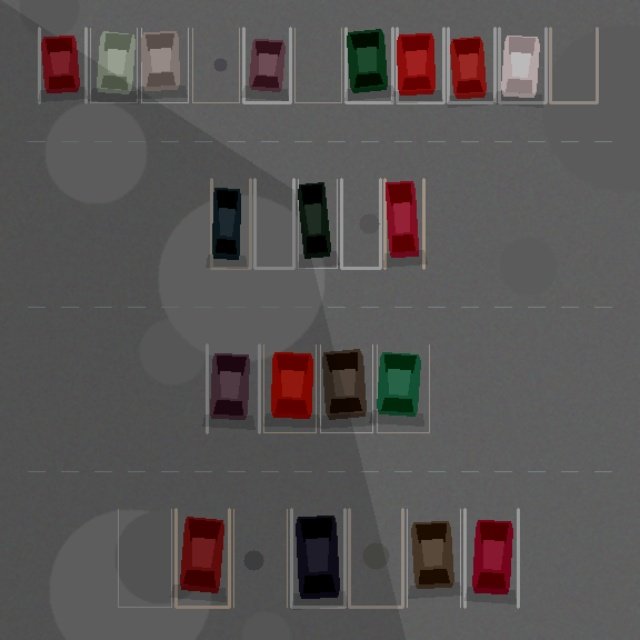space-empty: (233, 509, 287, 607), (118, 509, 171, 607), (349, 509, 402, 607), (192, 28, 239, 102), (294, 28, 341, 102), (550, 28, 597, 102), (254, 179, 293, 268), (341, 179, 380, 268)
space-occupied: (464, 509, 518, 607), (176, 509, 229, 607), (291, 509, 344, 607), (407, 509, 460, 607), (263, 344, 316, 432), (207, 344, 259, 432), (320, 344, 372, 432), (377, 344, 429, 432), (39, 28, 86, 102), (90, 28, 137, 102), (141, 28, 188, 102), (243, 28, 290, 102), (499, 28, 546, 102), (211, 179, 250, 268), (298, 179, 337, 268), (384, 179, 423, 268), (346, 28, 392, 102), (397, 28, 443, 102), (448, 28, 494, 102)
